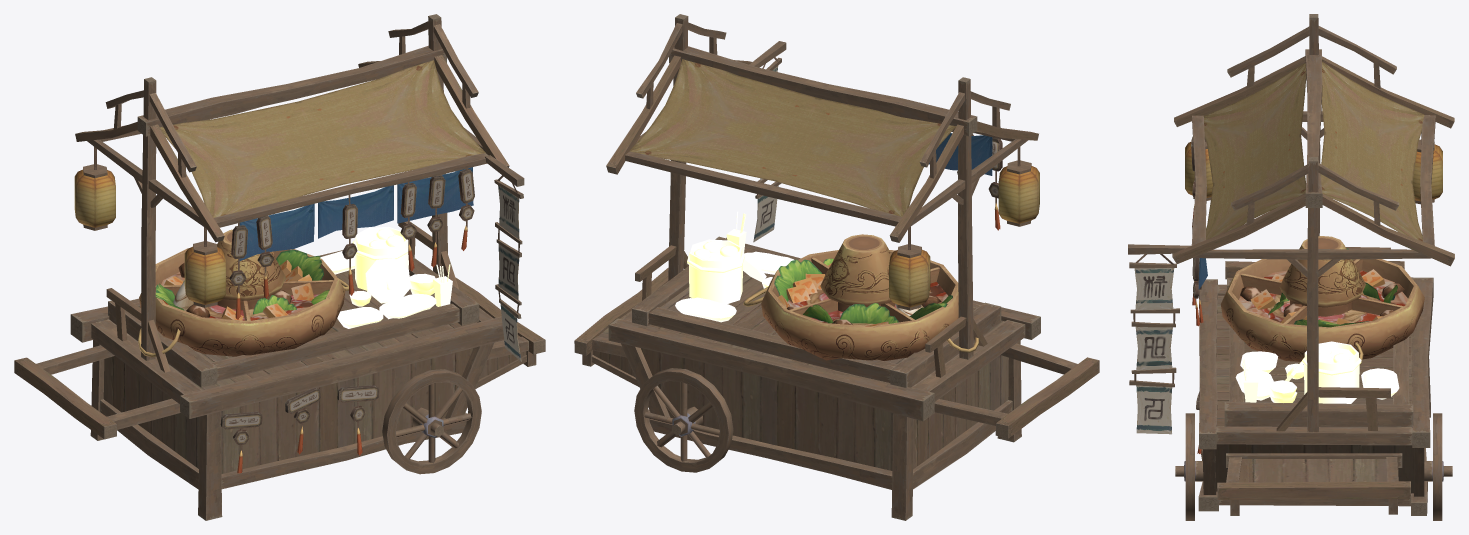
File: Homeworld_Exterior_Ly_Table_Diningcar_01_Lod0.fbx
3 renders of one model, left to right at view 1: azimuth 30°, elevation 25°; view 2: azimuth 150°, elevation 25°; view 3: azimuth 270°, elevation 25°, orthographic.
Visible parts, largest first — view 1: Area_Ly_Prop_Common_Varia_E_01_Lod0, Area_Ly_Prop_Common_Varia_E_02_Lod0; view 2: Area_Ly_Prop_Common_Varia_E_01_Lod0, Area_Ly_Prop_Common_Varia_E_02_Lod0; view 3: Area_Ly_Prop_Common_Varia_E_01_Lod0, Area_Ly_Prop_Common_Varia_E_02_Lod0.
Boxes of the visible parts, <box> form: Area_Ly_Prop_Common_Varia_E_01_Lod0: <box>14,14,545,520</box>; Area_Ly_Prop_Common_Varia_E_02_Lod0: <box>108,226,479,387</box>; Area_Ly_Prop_Common_Varia_E_01_Lod0: <box>574,14,1099,520</box>; Area_Ly_Prop_Common_Varia_E_02_Lod0: <box>632,211,1001,387</box>; Area_Ly_Prop_Common_Varia_E_01_Lod0: <box>1128,14,1454,520</box>; Area_Ly_Prop_Common_Varia_E_02_Lod0: <box>1221,236,1424,427</box>.
Bounding box in the file's own units: 3.48 × 3.04 × 2.28.
